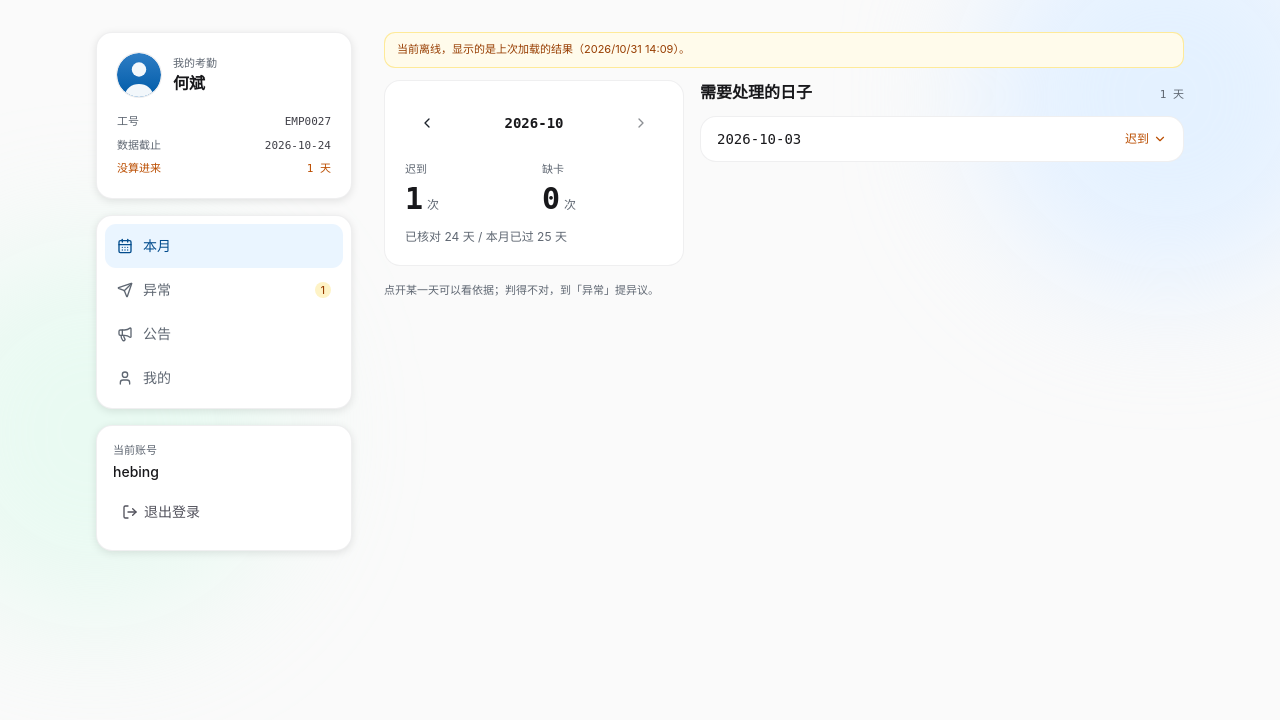
it: 员工门户状态细节（qa-2 / qa-4 / qa-5 / qa-7 / qa-18） › 断网时显示上次成功结果并标注离线
Expected: the text "当前离线，显示的是上次加载的结果（2026/10/31 14:09）。" is shown, x1=384 y1=32 x2=1184 y2=68
Click the button "异常 1" at (224,290), box x1=105 y1=268 x2=343 y2=312
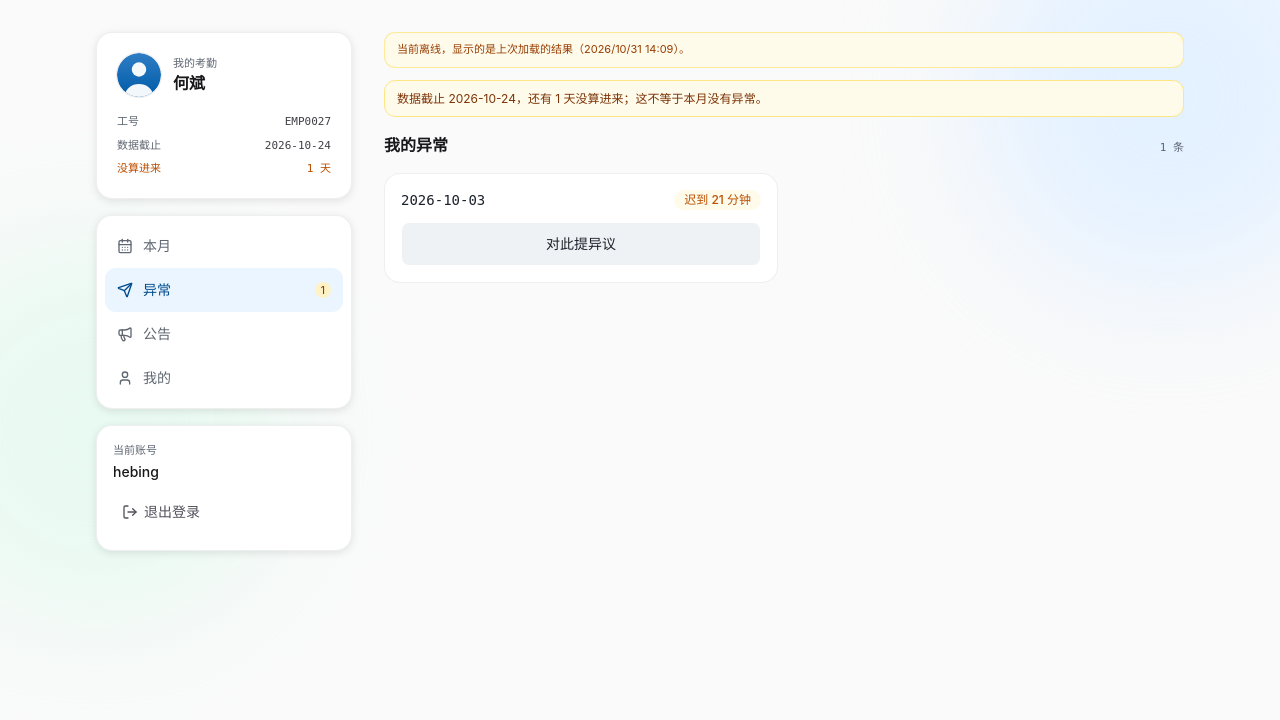
Expected: the text "迟到 21 分钟" is shown, x1=674 y1=190 x2=761 y2=210
